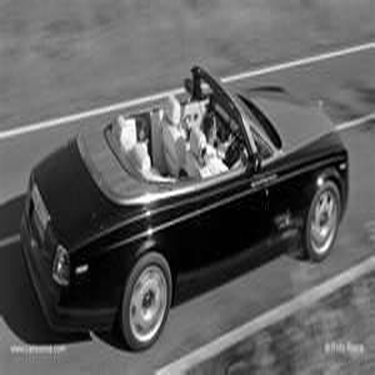car: (8, 61, 356, 356)
